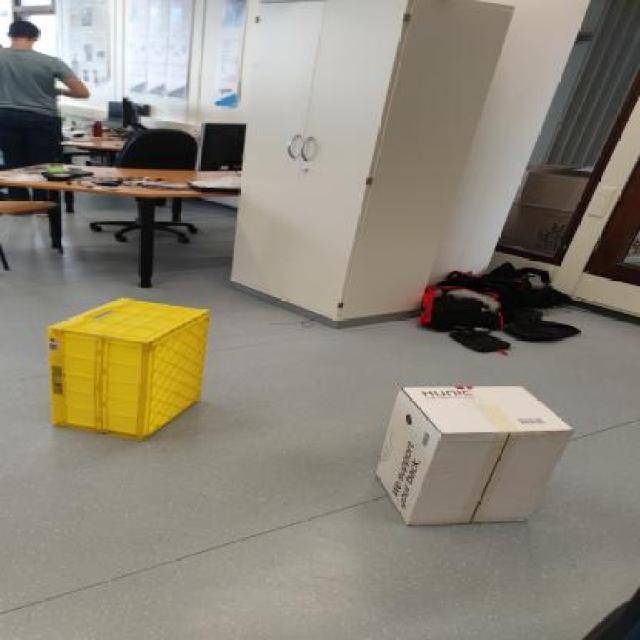box: (352, 352, 576, 553), (26, 284, 214, 451)
